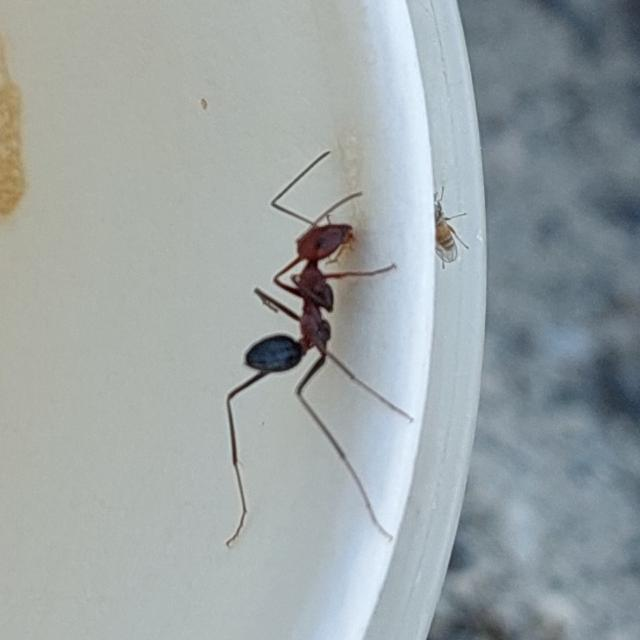Cataglyphis: (205, 172, 392, 444)
